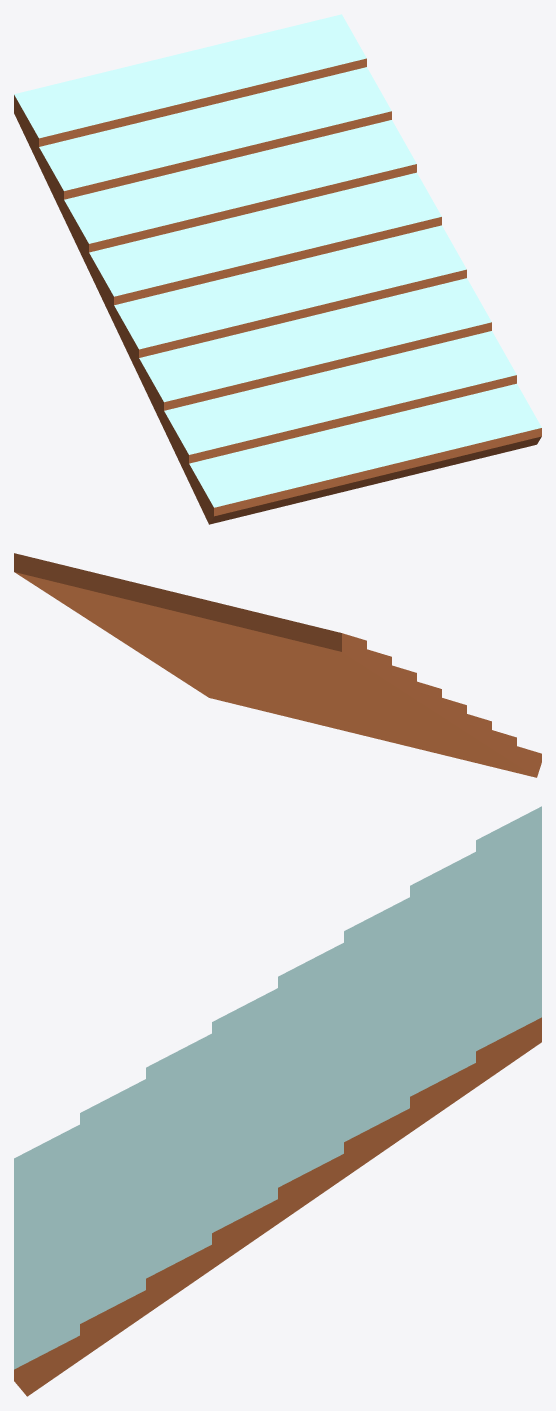
The model's file is cabinRoof.fbx.
The picture shows the model from 3 angles, top to bottom: view 1: azimuth 30°, elevation 25°; view 2: azimuth 150°, elevation 25°; view 3: azimuth 270°, elevation 25°; orthographic projection. The views are drawn at different scales.
Parts seen in each view (by area): view 1: cabinRoof; view 2: cabinRoof; view 3: cabinRoof.
Part boxes in pixels (bbox=[...]): cabinRoof: bbox=[14, 14, 541, 524]; cabinRoof: bbox=[14, 553, 541, 777]; cabinRoof: bbox=[14, 806, 541, 1396].
Bounding box in the file's own units: 11.4 × 9.56 × 12.05.
